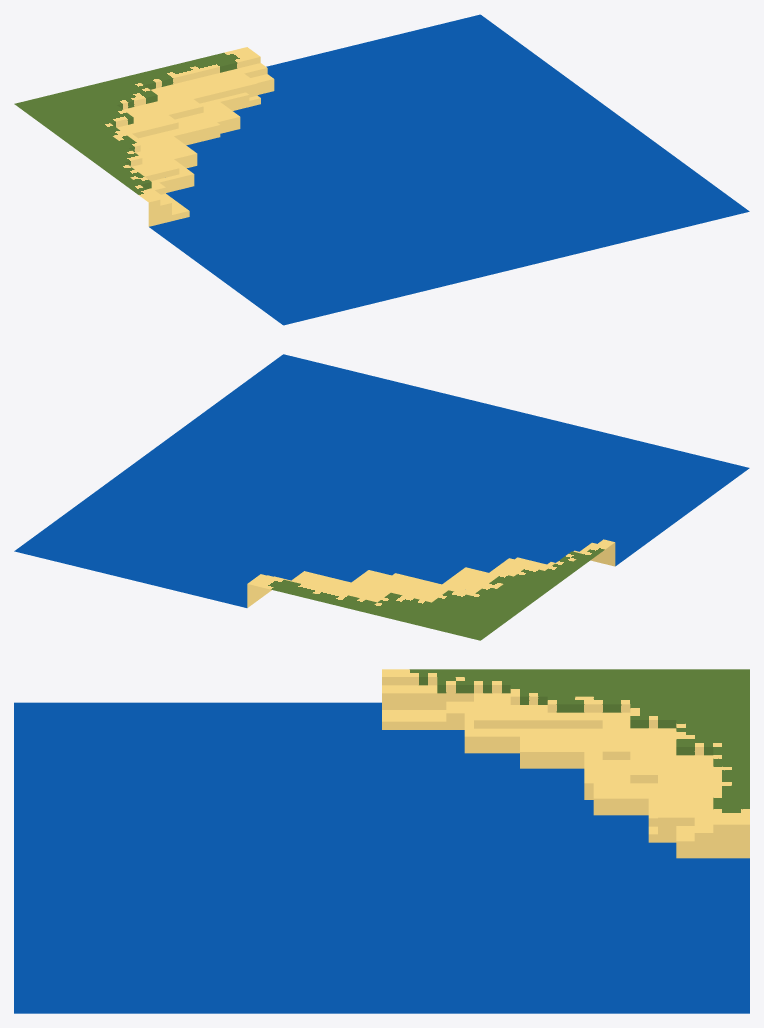
Rendered from LWWW(3).glb.
3 renders of one model, top to bottom at view 1: azimuth 30°, elevation 25°; view 2: azimuth 150°, elevation 25°; view 3: azimuth 270°, elevation 25°, orthographic. The views are drawn at different scales.
Parts seen in each view (by area): view 1: model_0.030; view 2: model_0.030; view 3: model_0.030.
Boxes of the visible parts, <box> form: model_0.030: <box>14,14,749,325</box>; model_0.030: <box>14,354,749,640</box>; model_0.030: <box>14,669,749,1013</box>.
Size of the model in its own units: 80 by 4 by 80.
Materials: 1 (1 with a texture image).
